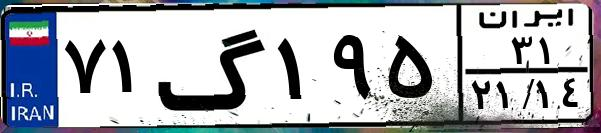1: (270, 28, 330, 110), (110, 28, 156, 98), (537, 27, 568, 80), (495, 70, 520, 125), (535, 70, 560, 125)
2: (470, 70, 495, 125)
3: (508, 27, 537, 80)
4: (560, 70, 590, 125)
5: (385, 28, 445, 110)
7: (57, 26, 110, 100)
9: (330, 28, 385, 110)
گ: (156, 12, 270, 120)
